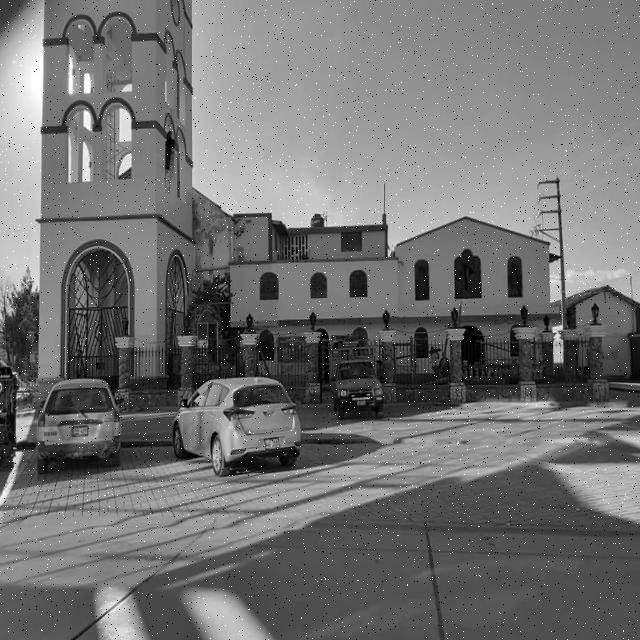CAMPANARIO: (40, 0, 176, 210)
colonial-architecture-: (0, 0, 617, 407)
